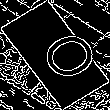O_SW: (17, 23, 93, 87)
